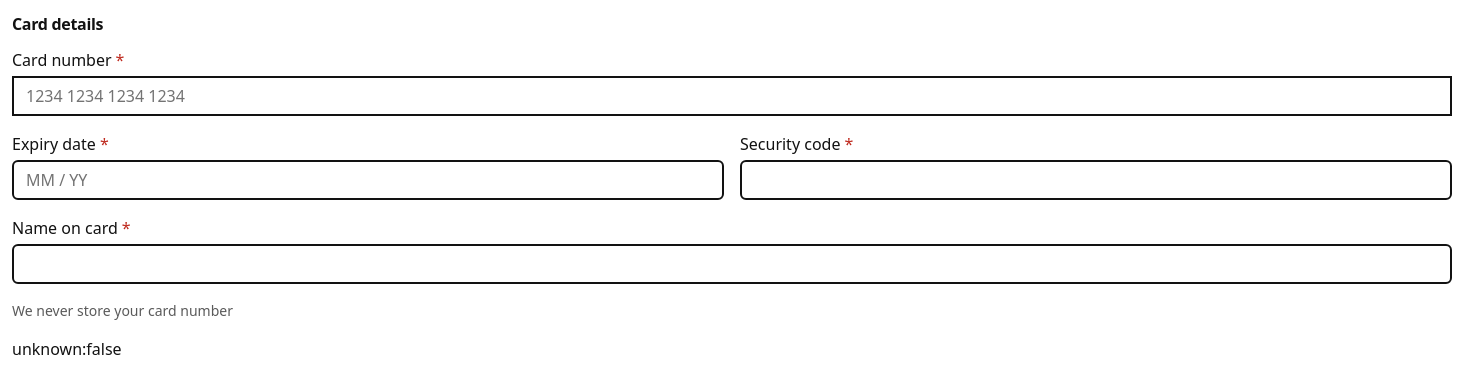
PaymentCardForm controlled usage › works inside a parent that re-renders on every change
Type "5555" into the field labelled "Card number*" at (732, 96), box [12,76,1452,116]
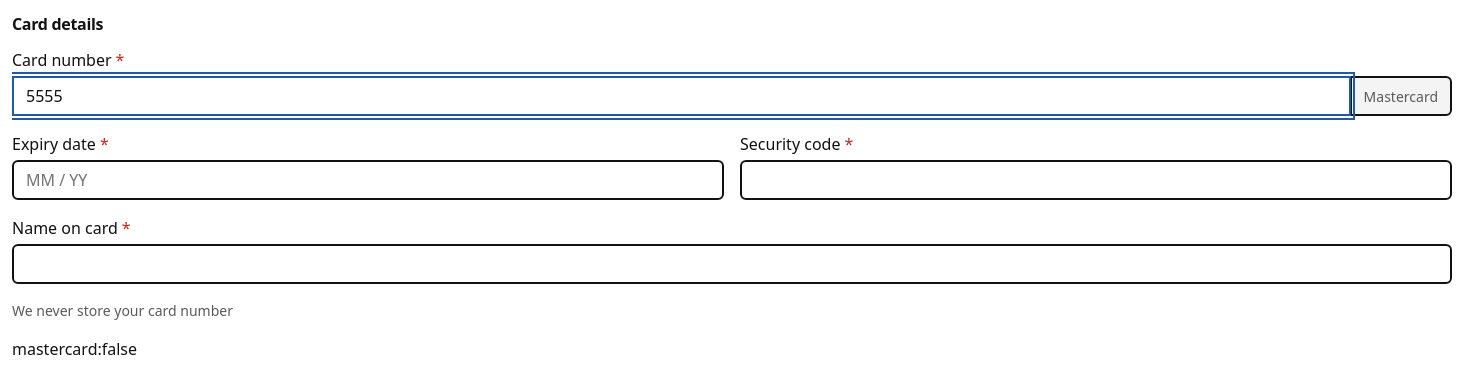
expect the text "mastercard:false" is shown: met, box [12,337,137,361]
